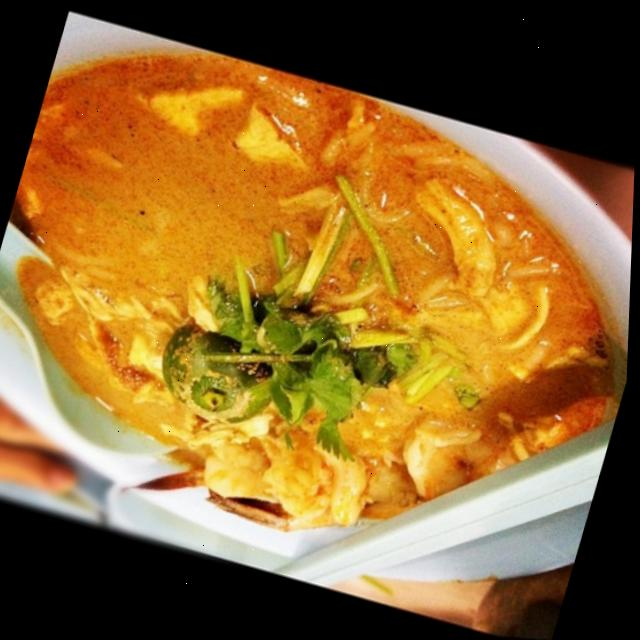面条主食: (0, 10, 640, 631)
